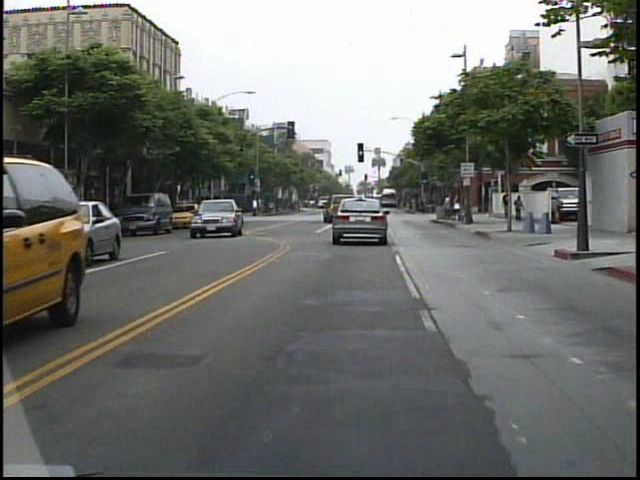person: (439, 189, 457, 222), (501, 187, 516, 226), (513, 191, 525, 225), (253, 194, 262, 219)
